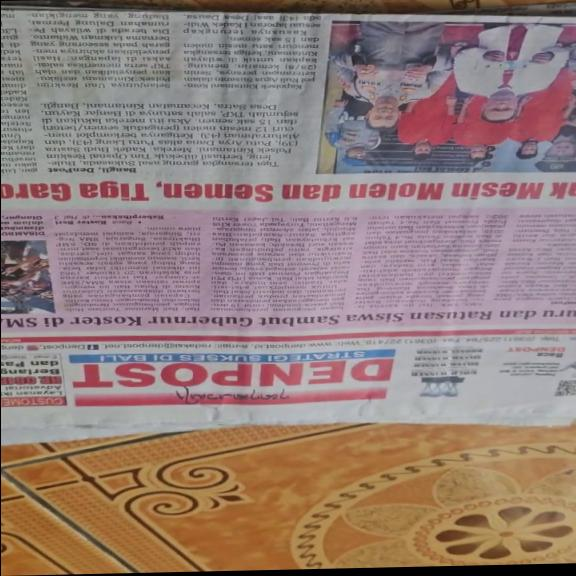Kertas: (6, 0, 570, 442)
